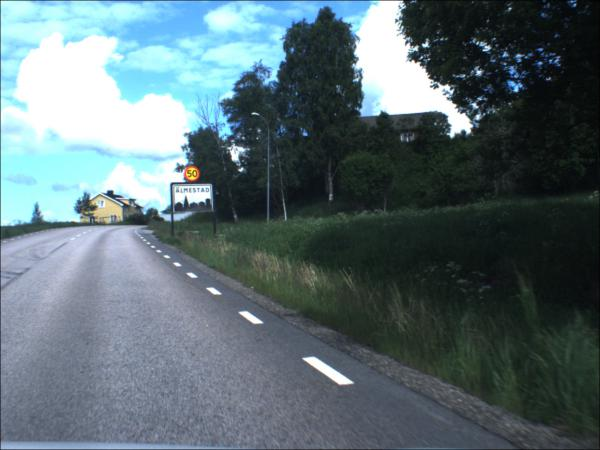50_SIGN: (185, 167, 202, 184)
